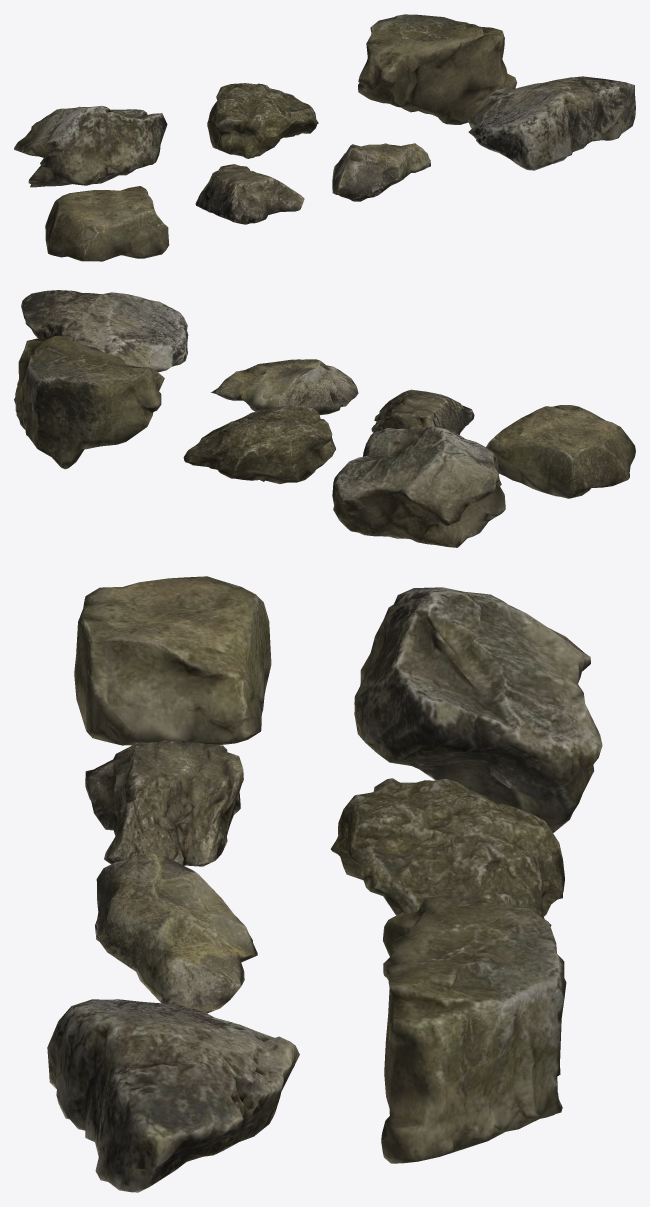
Rendered from rock_moss_set_02.glb.
3 views of the same model, one above another, from view 1: azimuth 30°, elevation 25°; view 2: azimuth 150°, elevation 25°; view 3: azimuth 270°, elevation 25° (orthographic). The views are drawn at different scales.
Parts seen in each view (by area): view 1: rock_moss_set_02_rock08; view 2: rock_moss_set_02_rock08; view 3: rock_moss_set_02_rock08.
Part boxes in pixels (x1,y1,x2,y2): rock_moss_set_02_rock08: [14, 14, 635, 261]; rock_moss_set_02_rock08: [14, 290, 635, 547]; rock_moss_set_02_rock08: [47, 576, 602, 1192].
Bounding box in the file's own units: 8.28 × 1.37 × 3.41.
1 material, 1 textured.
